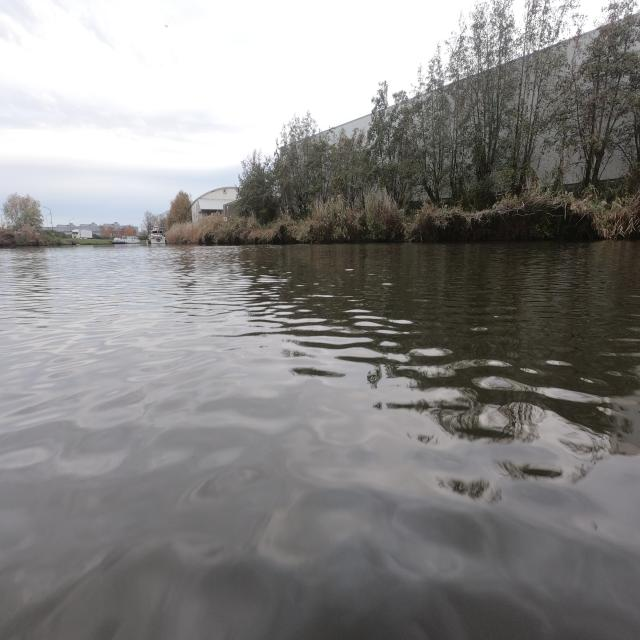reed: (200, 186, 635, 243), (1, 224, 42, 247)
sky: (1, 1, 467, 222)
tree: (240, 0, 640, 222), (563, 0, 640, 188)
water: (1, 236, 638, 639)
